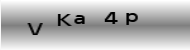4: (103, 10, 119, 25)
K: (56, 13, 71, 26)
V: (27, 21, 43, 36)
a: (73, 14, 85, 24)
p: (125, 12, 138, 26)
